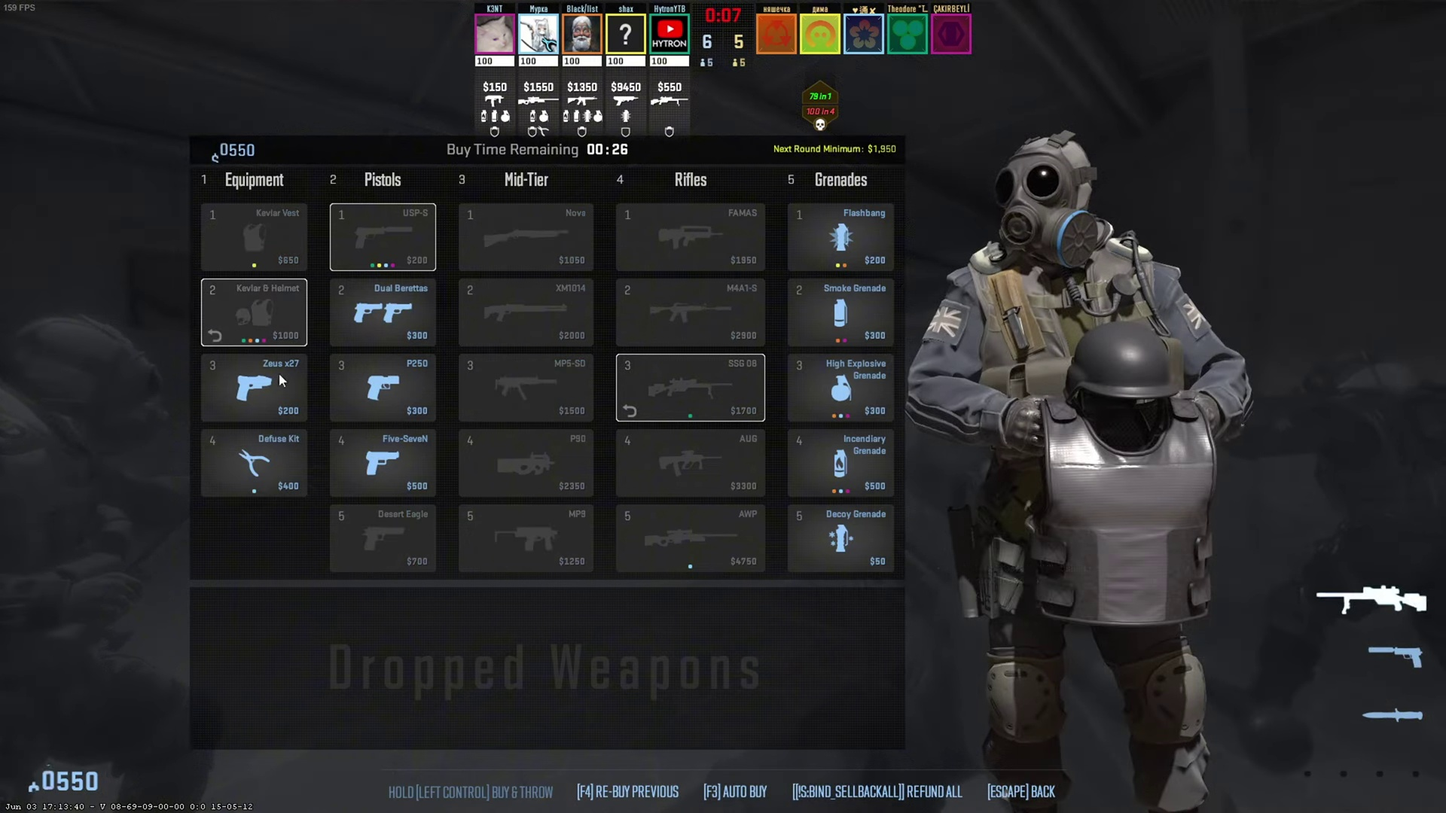CT: (974, 129, 1212, 811)
